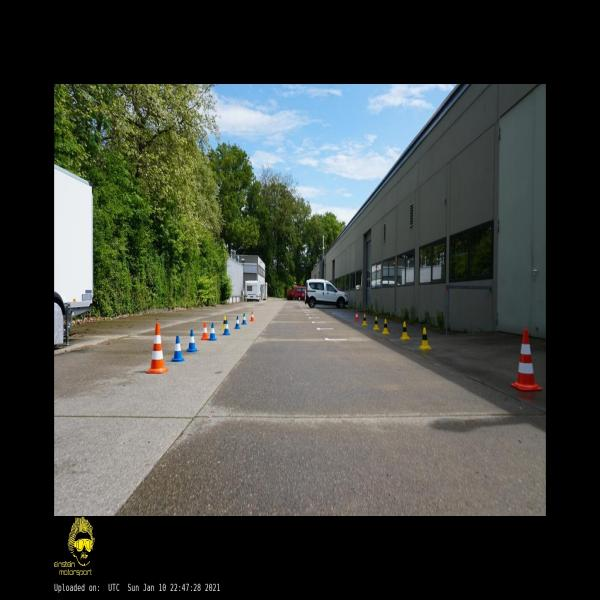blue_cone: (172, 335, 184, 362), (186, 330, 198, 352), (209, 323, 217, 340), (223, 320, 230, 335), (234, 315, 240, 328), (242, 313, 246, 325)
large_orange_cone: (510, 329, 542, 390), (146, 323, 168, 374)
orange_cone: (200, 322, 210, 340), (354, 310, 359, 321), (250, 311, 255, 321)
yellow_cone: (419, 328, 431, 349), (400, 321, 410, 340), (372, 316, 380, 330), (382, 319, 389, 334), (362, 314, 368, 326), (221, 315, 226, 329)
